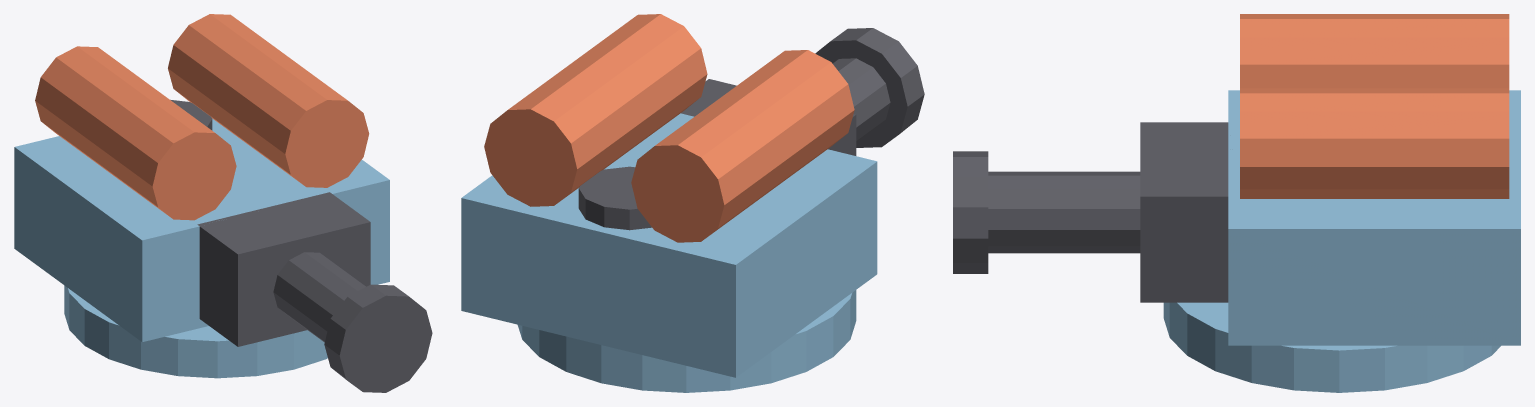
The model's file is FlameTurret.fbx.
The picture shows the model from 3 angles, left to right: view 1: azimuth 30°, elevation 25°; view 2: azimuth 150°, elevation 25°; view 3: azimuth 270°, elevation 25°; orthographic projection. The views are drawn at different scales.
Parts seen in each view (by area): view 1: Flame_Body; view 2: Flame_Body; view 3: Flame_Body.
Part boxes in pixels (<box>): Flame_Body: <box>14,14,432,392</box>; Flame_Body: <box>461,14,924,392</box>; Flame_Body: <box>953,14,1520,392</box>.
Bounding box in the file's own units: 0.6 × 0.97 × 0.495.
